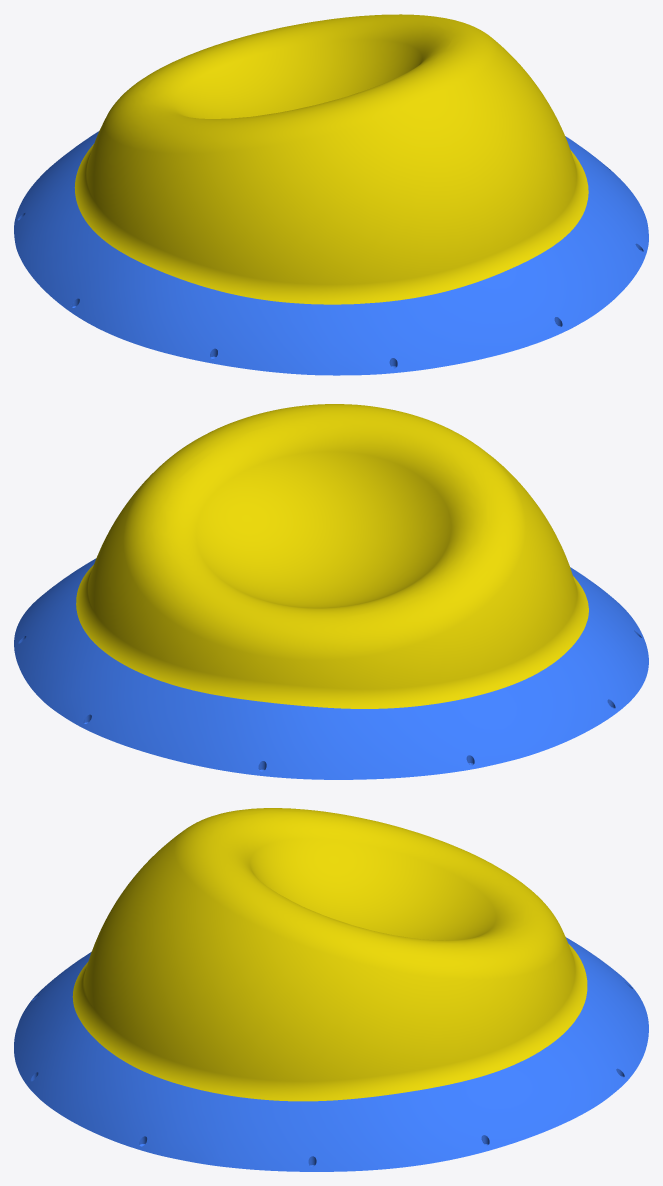
The model's file is hold_convex_no6.glb.
3 renders of one model, top to bottom at view 1: azimuth 30°, elevation 25°; view 2: azimuth 150°, elevation 25°; view 3: azimuth 270°, elevation 25°, orthographic.
Parts seen in each view (by area): view 1: Object_2, Object_3; view 2: Object_2, Object_3; view 3: Object_2, Object_3.
Boxes of the visible parts, left/top/right/bottom form: Object_2: left=74, top=14, right=588, bottom=304; Object_3: left=14, top=131, right=648, bottom=375; Object_2: left=76, top=404, right=588, bottom=708; Object_3: left=14, top=558, right=648, bottom=779; Object_2: left=72, top=808, right=587, bottom=1101; Object_3: left=14, top=937, right=648, bottom=1171.
Size of the model in its own units: 625 by 218 by 623.
